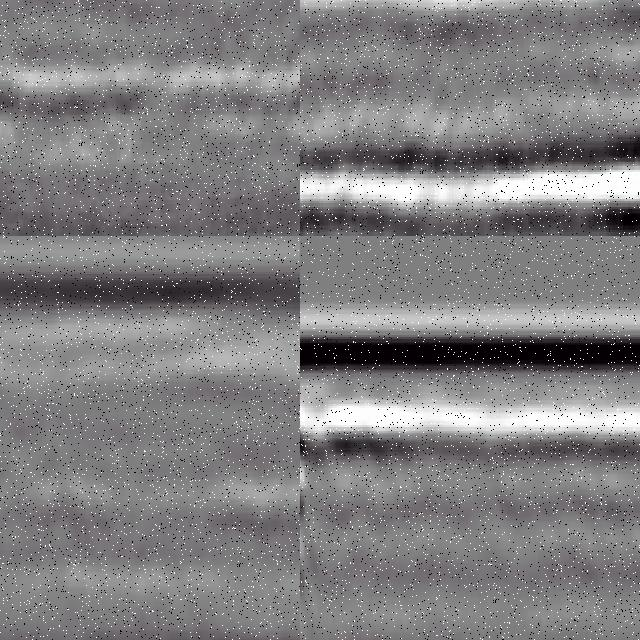crack: (301, 406, 319, 640)
